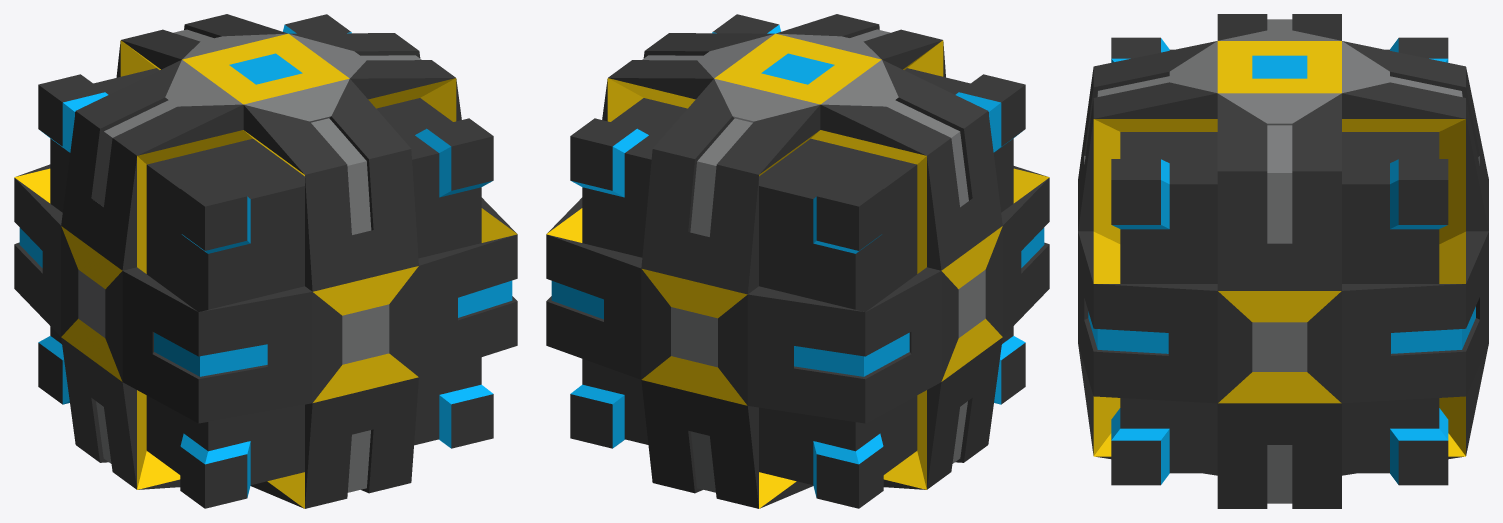
The picture shows the model from 3 angles, left to right: view 1: azimuth 30°, elevation 25°; view 2: azimuth 150°, elevation 25°; view 3: azimuth 270°, elevation 25°; orthographic projection.
Parts seen in each view (by area): view 1: Cube; view 2: Cube; view 3: Cube.
Part boxes in pixels (left/top/right/bottom): Cube: left=14, top=14, right=517, bottom=508; Cube: left=546, top=14, right=1049, bottom=508; Cube: left=1078, top=14, right=1488, bottom=508.
Size of the model in its own units: 218 by 227 by 221.
